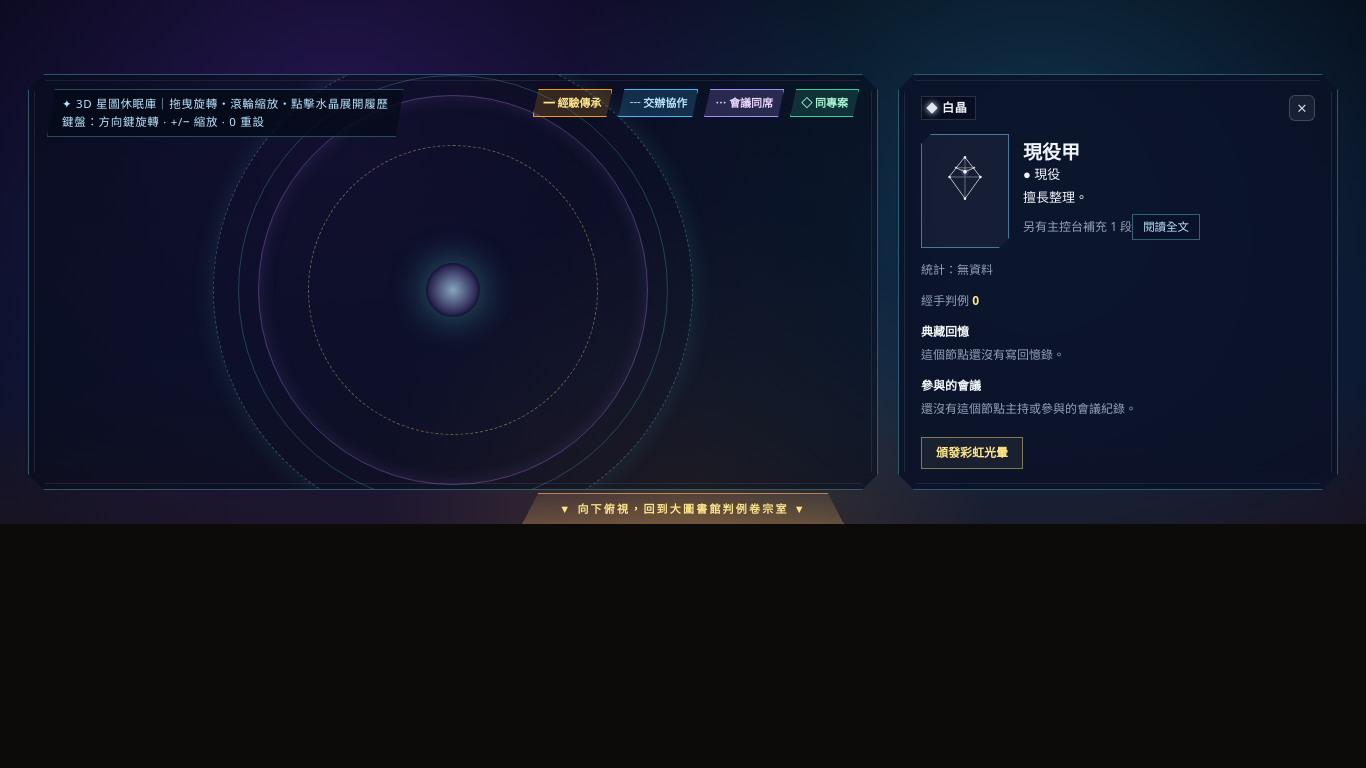
閱讀全文、編輯側寫、喚醒(M5d-b) › 閱讀全文:正文、回顧、主控台補充分節(只顯示本機時間);Esc 只關閱讀紙並把焦點還給按鈕;畫面沒有路徑
The image size is (1366, 768).
Later steps or results of the test are not shown.
Expected: the element named "節點履歷" shows "另有主控台補充 1 段", [898,74,1338,490]
Step 1. Click the button "閱讀全文" → click(1166, 226), box [1132,214,1200,240]
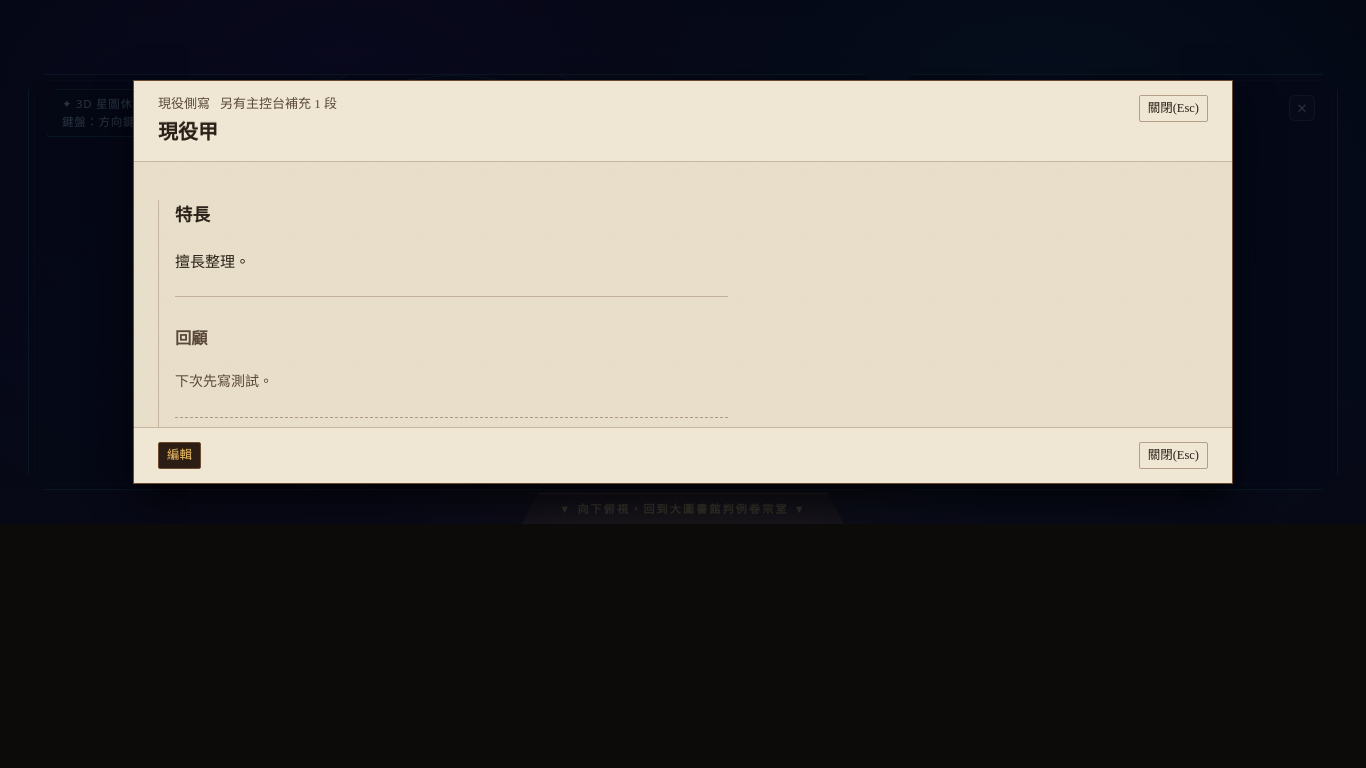
Expected: the element that starts with "現役側寫" is shown, [158,96,210,111]
Expected: the element showing "回顧 下次先寫測試。" is shown, [175,296,728,395]
